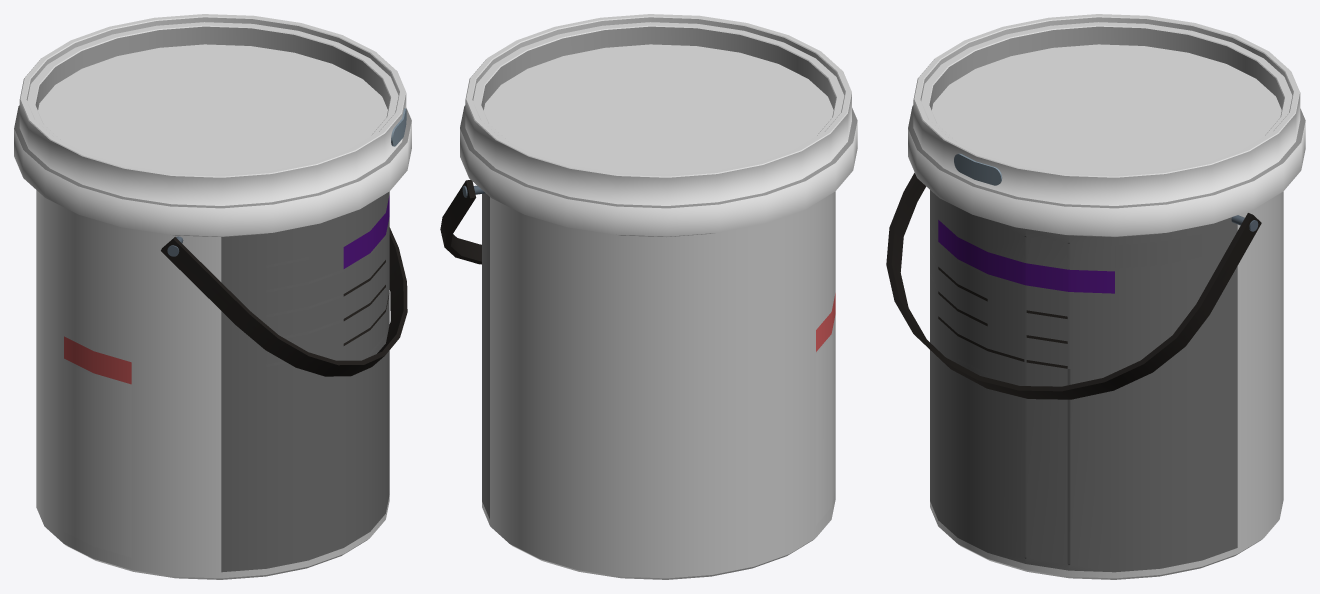
The model's file is SM_Cont_C_D.fbx.
The picture shows the model from 3 angles, left to right: view 1: azimuth 30°, elevation 25°; view 2: azimuth 150°, elevation 25°; view 3: azimuth 270°, elevation 25°; orthographic projection.
Visible parts, largest first — view 1: SM_Cont_C_D; view 2: SM_Cont_C_D; view 3: SM_Cont_C_D.
Part boxes in pixels (x1,y1,x2,y2): SM_Cont_C_D: [14, 14, 411, 579]; SM_Cont_C_D: [440, 14, 857, 579]; SM_Cont_C_D: [886, 14, 1305, 579].
Size of the model in its own units: 31.62 by 34.43 by 31.81.
